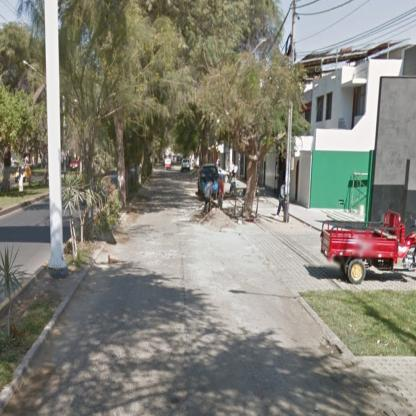Obstaculo: (191, 209, 239, 231), (319, 340, 344, 361)
Peaton: (278, 182, 287, 224)
Pista: (40, 236, 327, 346)
Vehiculo: (322, 211, 416, 284), (199, 164, 220, 202), (16, 166, 34, 183), (182, 160, 192, 171), (70, 162, 81, 172), (166, 159, 172, 170)
